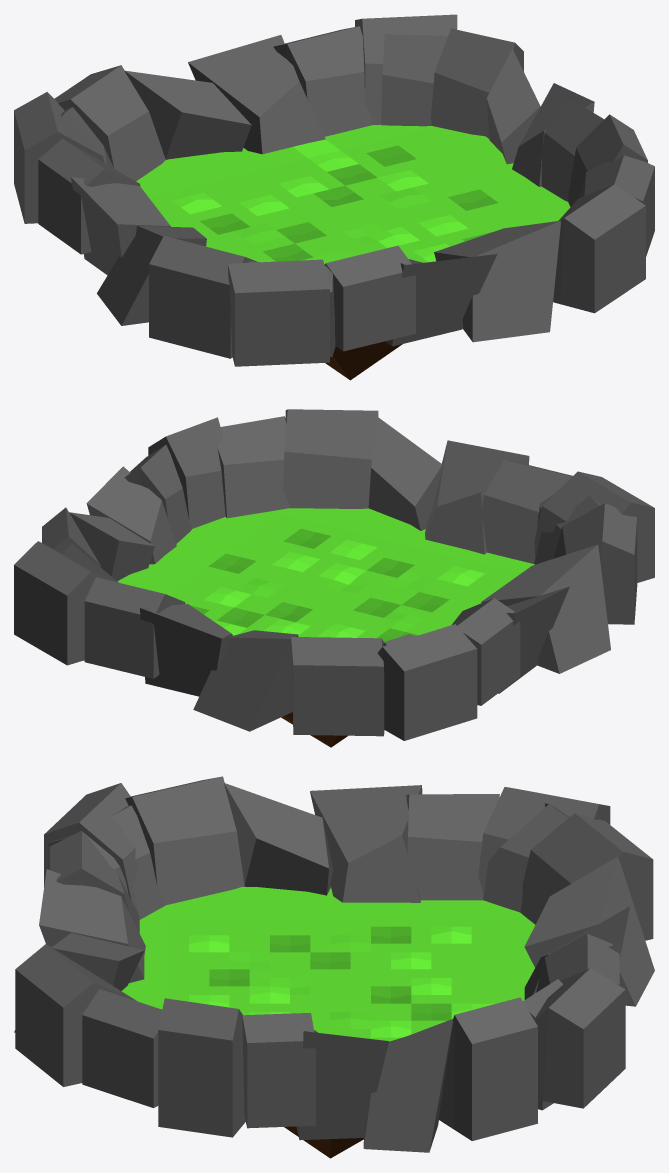
The model's file is secndminigamemap.fbx.
The picture shows the model from 3 angles, top to bottom: view 1: azimuth 30°, elevation 25°; view 2: azimuth 150°, elevation 25°; view 3: azimuth 270°, elevation 25°; orthographic projection. The views are drawn at different scales.
Visible parts, largest first — view 1: Cube.001, Cube; view 2: Cube.001, Cube; view 3: Cube.001, Cube.
Part boxes in pixels (x1,y1,x2,y2): Cube.001: (14, 14, 654, 366); Cube: (136, 124, 570, 380); Cube.001: (14, 409, 654, 740); Cube: (117, 508, 534, 747); Cube.001: (14, 776, 654, 1152); Cube: (121, 887, 535, 1158).
Bounding box in the file's own units: 27722 × 12818 × 28234.
